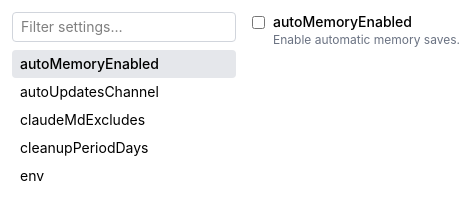
Test: SchemaForm › filtering the sidebar narrows the visible sections
In the field labelled "Filter settings": {"x": 124, "y": 27} [12,12,236,42], type "auto"
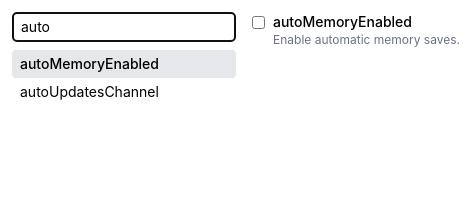
Result: the buttons read "autoMemoryEnabled", "autoUpdatesChannel", in this order at [12,50,236,78]; [12,78,236,106]
